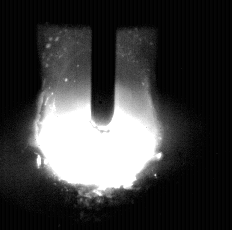arame: (92, 0, 116, 133)
poca: (34, 0, 160, 230)
